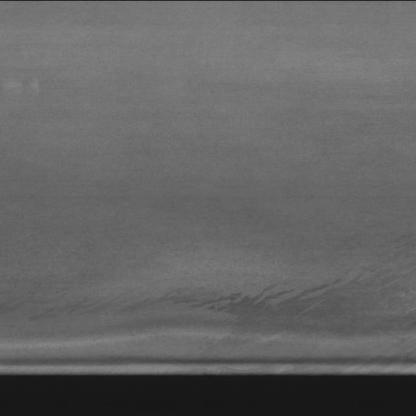water_spot: (127, 268, 407, 337)
